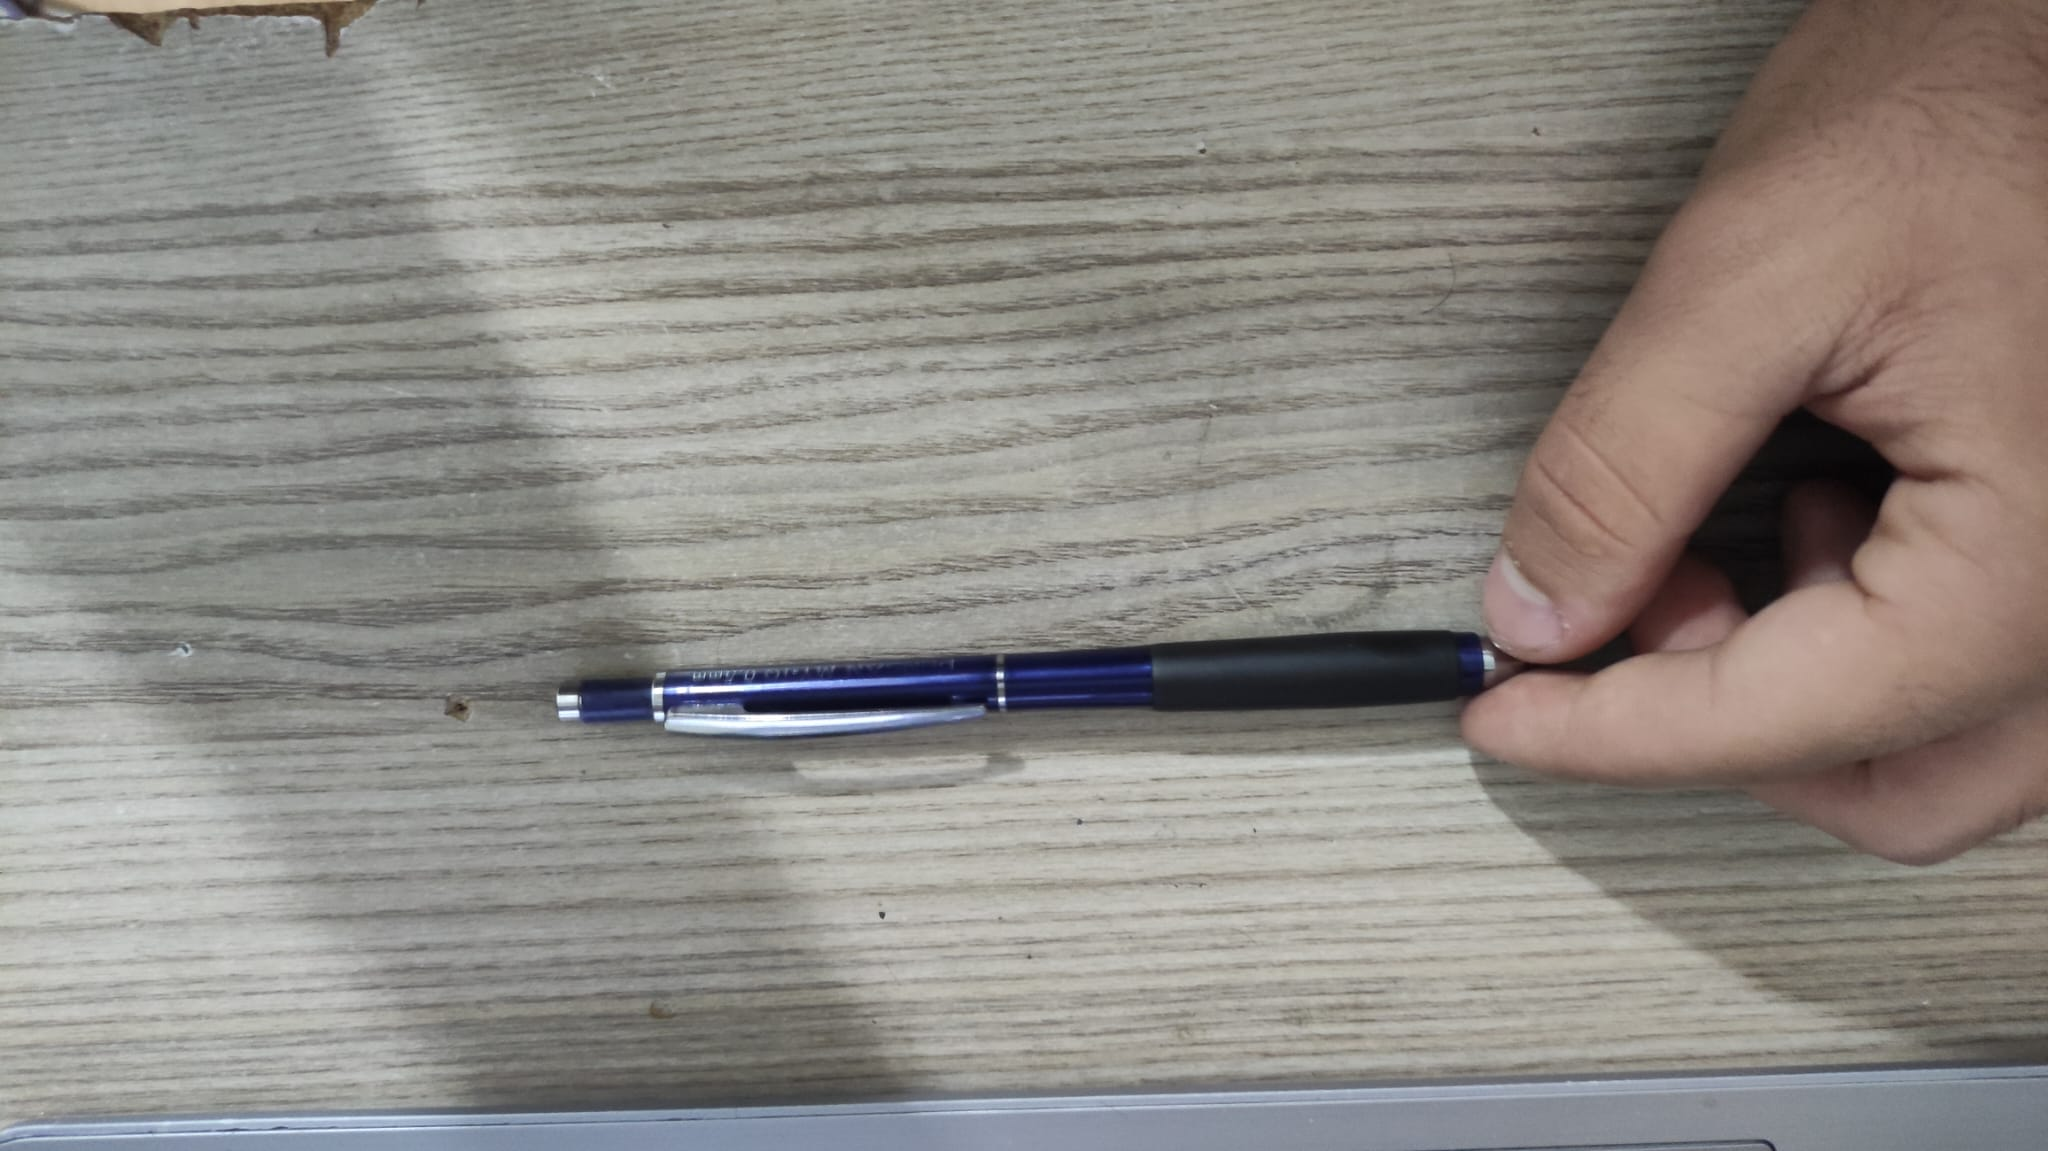kalem: (554, 605, 1498, 737)
